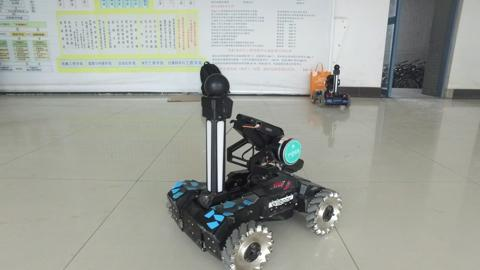bag: (308, 59, 333, 99)
chariot: (164, 74, 345, 270), (309, 63, 352, 110)
